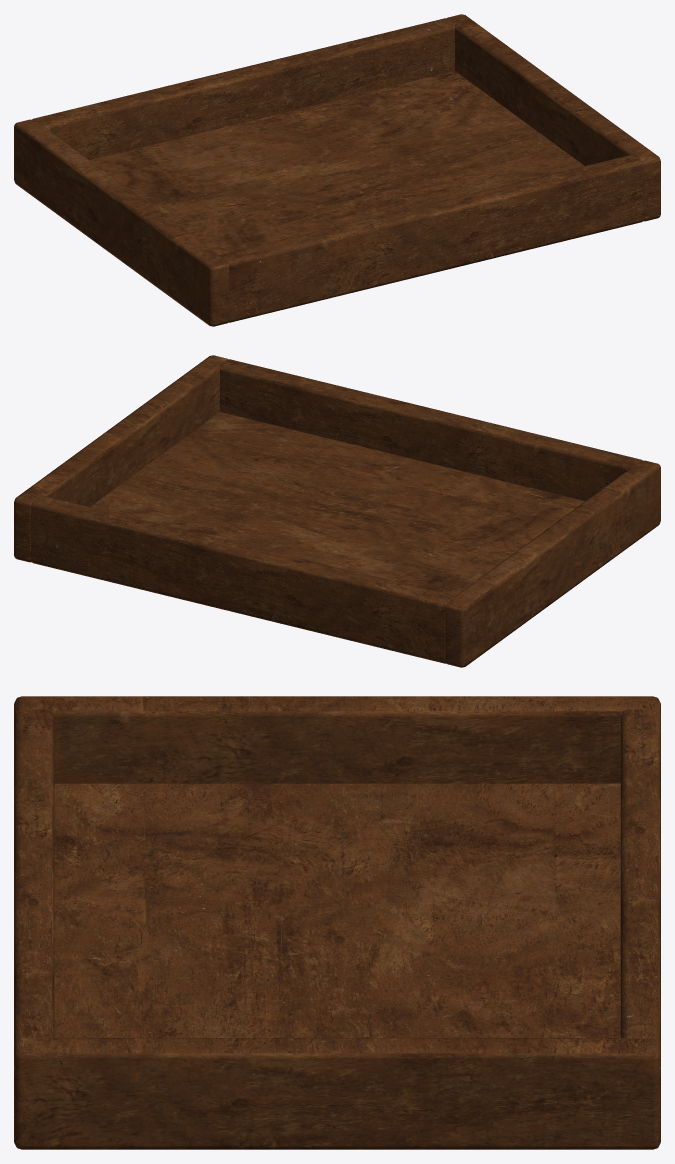
Rendered from candle_tray.glb.
3 renders of one model, top to bottom at view 1: azimuth 30°, elevation 25°; view 2: azimuth 150°, elevation 25°; view 3: azimuth 270°, elevation 25°, orthographic. The views are drawn at different scales.
Visible parts, largest first — view 1: WalnutSurface; view 2: WalnutSurface; view 3: WalnutSurface.
Part boxes in pixels (x1=…): WalnutSurface: x1=14, y1=14, x2=660, y2=326; WalnutSurface: x1=14, y1=355, x2=660, y2=667; WalnutSurface: x1=14, y1=696, x2=660, y2=1149.
Bounding box in the file's own units: 0.42 × 0.055 × 0.32.
1 material, 1 textured.
